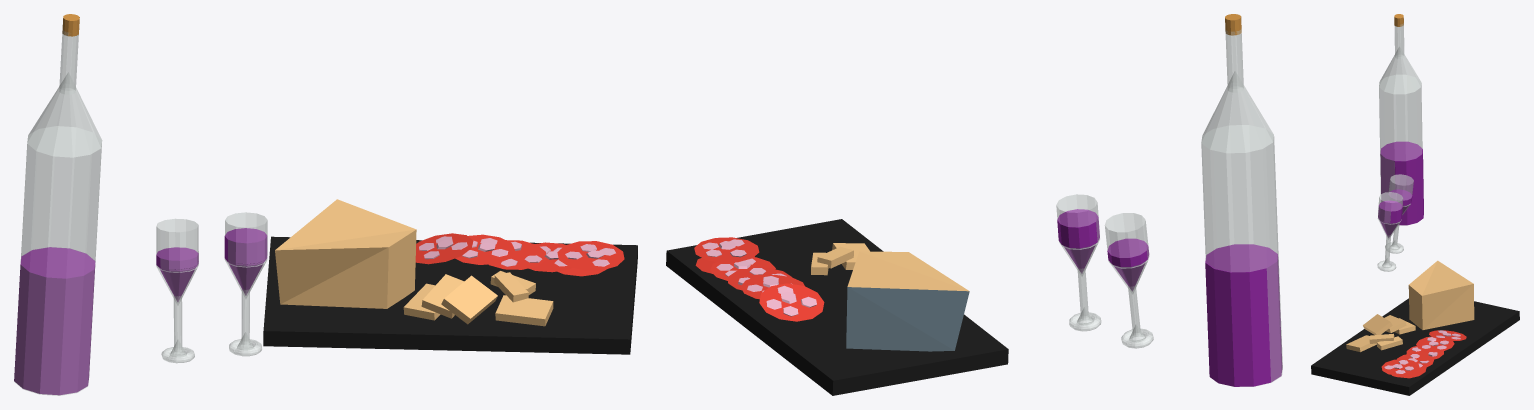
The model's file is Wine_bar.glb.
The picture shows the model from 3 angles, left to right: view 1: azimuth 30°, elevation 25°; view 2: azimuth 150°, elevation 25°; view 3: azimuth 270°, elevation 25°; orthographic projection. The views are drawn at different scales.
Visible parts, largest first — view 1: Node; view 2: Node; view 3: Node.
Boxes of the visible parts, x1=… form: Node: x1=14, y1=14, x2=637, y2=395; Node: x1=666, y1=14, x2=1282, y2=395; Node: x1=1311, y1=14, x2=1519, y2=395.
Bounding box in the file's own units: 1.69 × 1.03 × 0.8647.
